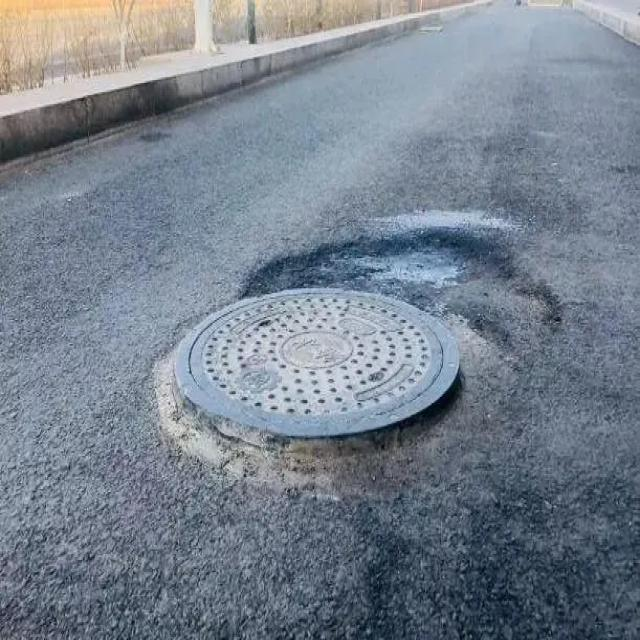manhole: (156, 288, 462, 478)
